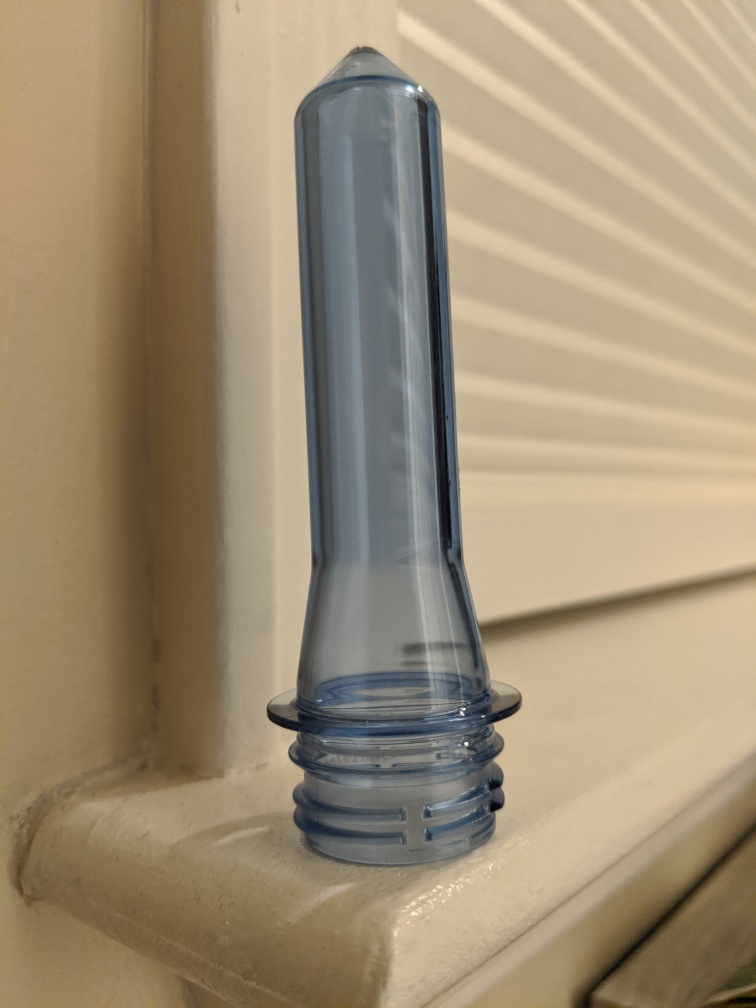preform: (259, 34, 527, 870)
